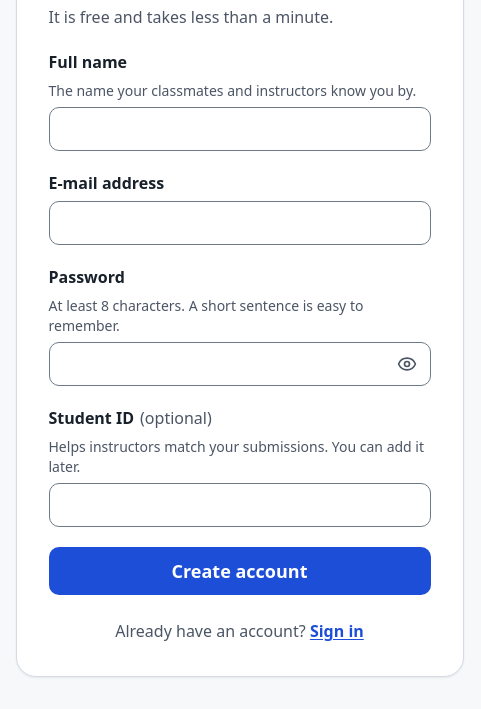
Test: sign up › lists every problem on submit in plain language
The image size is (481, 709).
(page scrolled)
Click the button "Create account" at (240, 571), box [48,547,430,595]
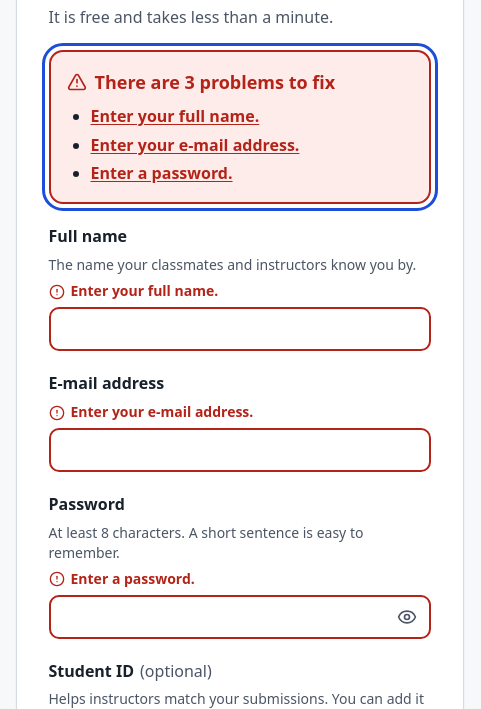
Now the message shows "There are 3 problems to fix", box [94,70,335,94]
Now the link "Enter your full name." is shown, box [90,105,259,127]
Now the link "Enter your e-mail address." is shown, box [90,134,299,156]
